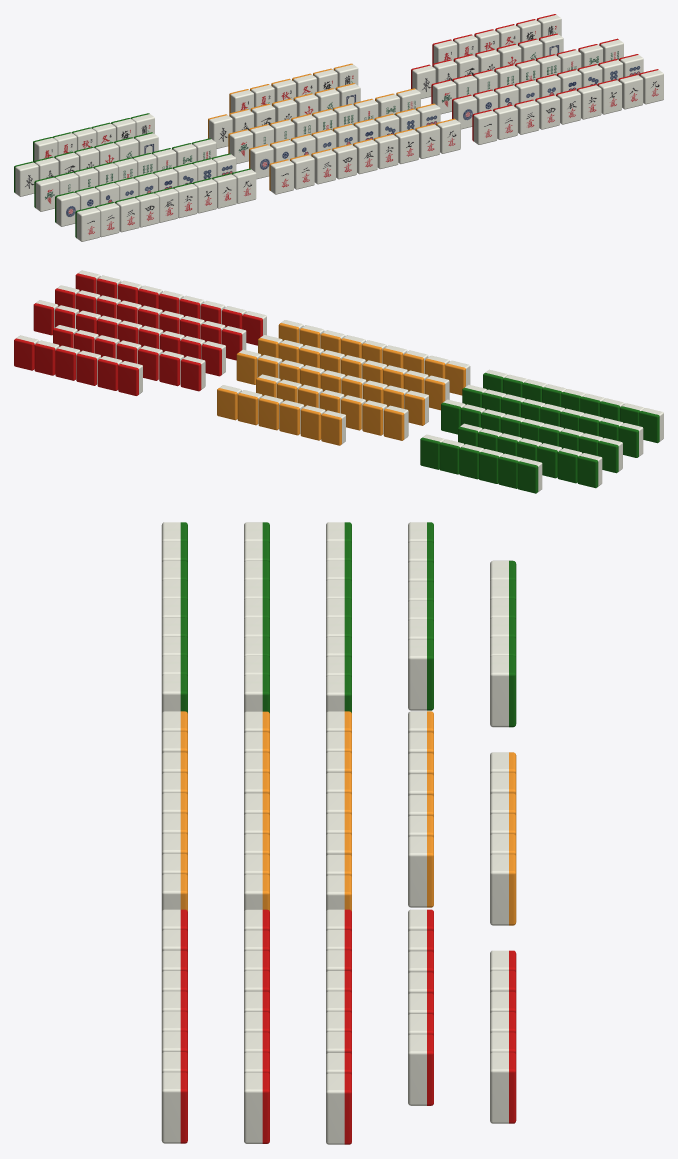
Rendered from Mahjong.fbx.
3 renders of one model, top to bottom at view 1: azimuth 30°, elevation 25°; view 2: azimuth 150°, elevation 25°; view 3: azimuth 270°, elevation 25°, orthographic. The views are drawn at different scales.
Parts seen in each view (by area): view 1: Wan1 (×3), Wan3 (×3), Tiao1 (×3), Bing1 (×3), Wan9 (×3), Wan8 (×3), Wan4 (×3), Wan6 (×3), Dong (×3), Wan5 (×3), Wan7 (×3), Wan2 (×3) (+29 smaller); view 2: Dong (×3), Chun (×3), Tiao1 (×3), Nan (×3), Qiu (×3), Mei (×3), Wan1 (×3), Dong1 (×3), Bing1 (×3), Xia (×3), Tiao9 (×3), Xi (×3) (+29 smaller); view 3: Bai (×3), Wan9 (×3), Lan (×2), Bing9 (×3), Tiao9 (×3), lan.
Boxes of the visible parts, box(x1,y1,x2,y2) form: Wan1 (×3): box(75, 109, 497, 241); Wan3 (×3): box(115, 99, 539, 232); Tiao1 (×3): box(34, 79, 456, 211); Bing1 (×3): box(55, 94, 476, 226); Wan9 (×3): box(231, 69, 663, 203); Wan8 (×3): box(212, 74, 643, 208); Wan4 (×3): box(134, 94, 559, 227); Wan6 (×3): box(173, 84, 601, 218); Dong (×3): box(14, 64, 435, 196); Wan5 (×3): box(154, 89, 580, 222); Wan7 (×3): box(192, 79, 621, 213); Wan2 (×3): box(95, 104, 517, 237); Dong (×3): box(180, 356, 602, 488); Chun (×3): box(118, 361, 542, 493); Tiao1 (×3): box(201, 341, 622, 473); Nan (×3): box(159, 351, 582, 483); Qiu (×3): box(76, 350, 503, 483); Mei (×3): box(34, 340, 464, 474); Wan1 (×3): box(242, 311, 663, 443); Dong1 (×3): box(55, 345, 483, 479); Bing1 (×3): box(221, 326, 643, 457); Xia (×3): box(97, 356, 522, 488); Tiao9 (×3): box(33, 300, 465, 434); Xi (×3): box(138, 345, 561, 478); Bai (×3): box(408, 639, 433, 1105); Wan9 (×3): box(161, 674, 187, 1143); Lan (×2): box(490, 655, 516, 925); Bing9 (×3): box(244, 675, 269, 1143); Tiao9 (×3): box(326, 675, 351, 1144); lan: box(490, 1052, 516, 1123).
Size of the model in its own units: 71.1 by 3.17 by 18.68.
